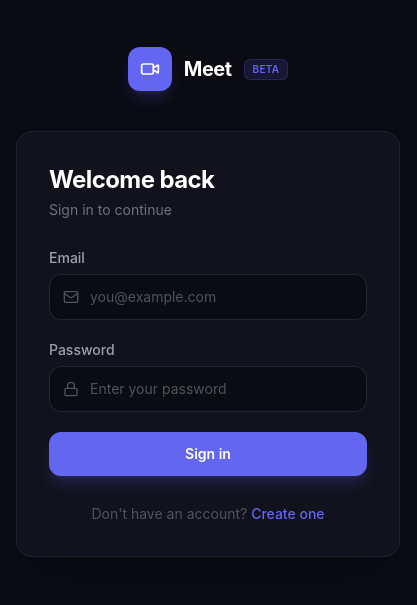
Test: Login › shows network error on exception
Type "a@b.com" into the field with placeholder "you@example.com" at (208, 297), box 49,274 -> 367,320
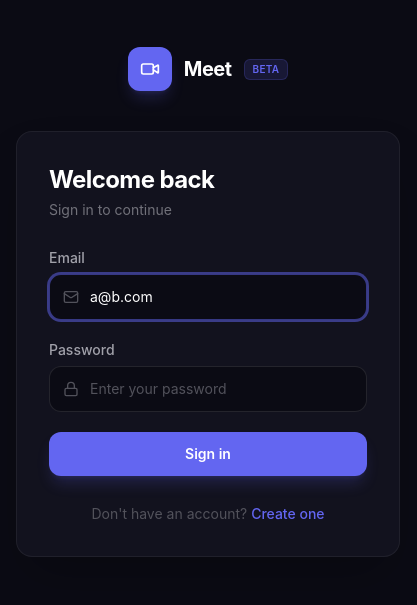
Type "password" into the password field with placeholder "Enter your password" at (208, 389), box 49,366 -> 367,412
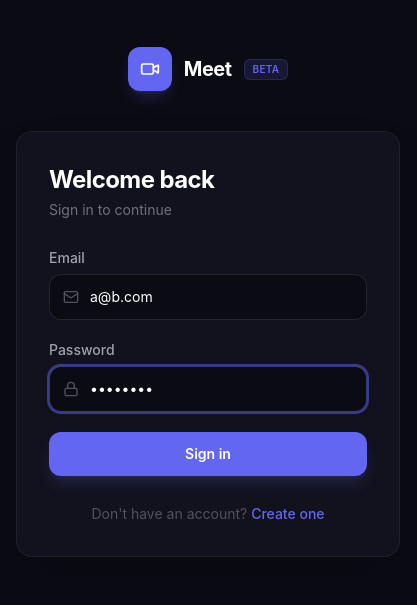
Click the button "Sign in" at (208, 454), box 49,432 -> 367,476
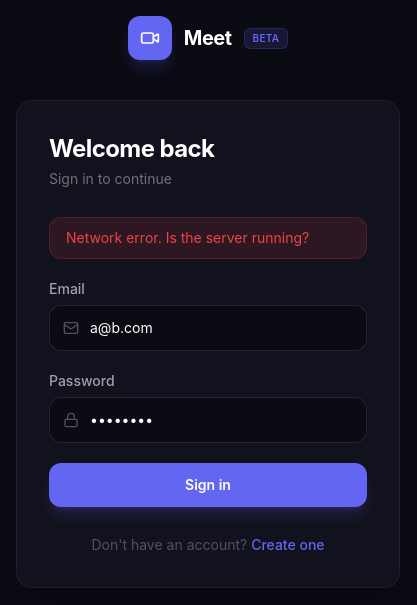
Check: the text "Network error. Is the server running?" is shown, box 49,217 -> 367,259
